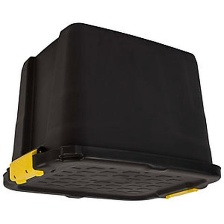plastic_box: (0, 16, 224, 209)
